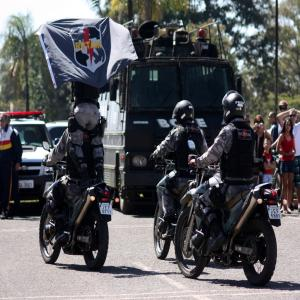Vehicle-registration-plate: (268, 204, 281, 221), (100, 203, 114, 215), (18, 179, 36, 188)
